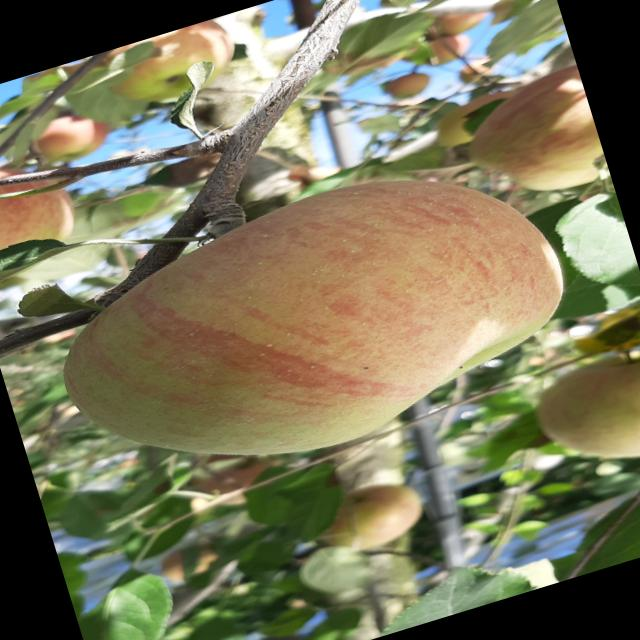fresh: (17, 118, 599, 527)
